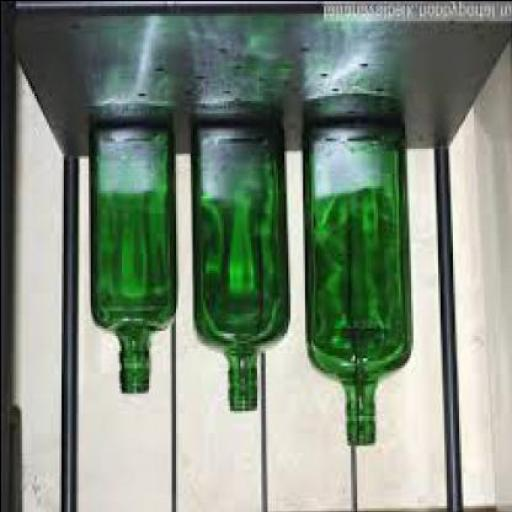glass: (300, 115, 408, 447), (189, 119, 287, 415), (85, 122, 171, 394)
